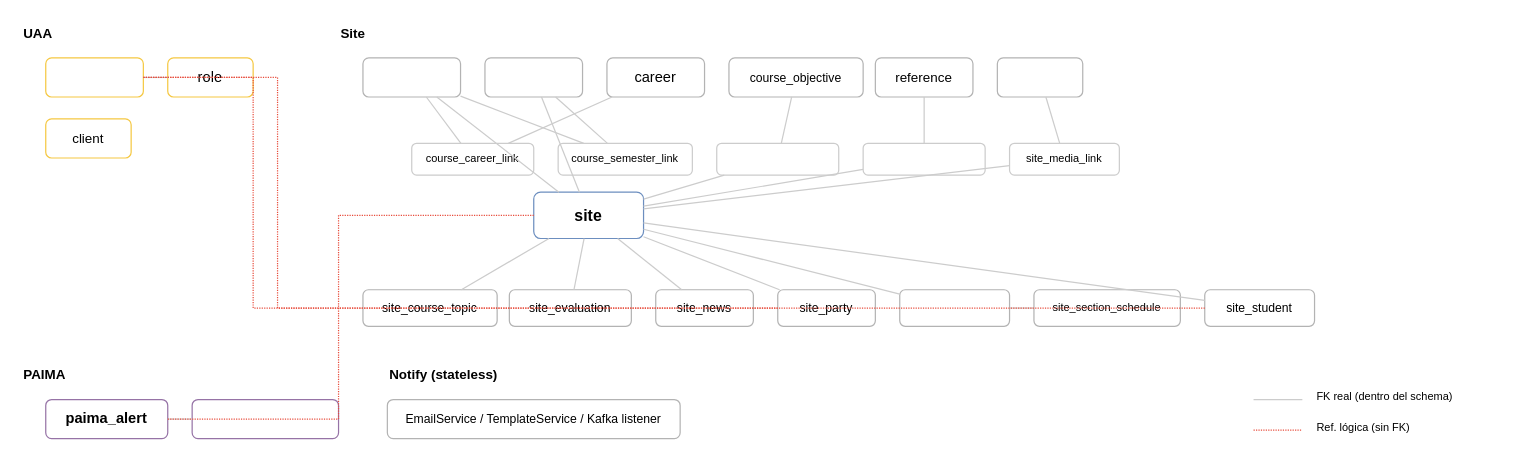
Image size: 1530x460. Some labels were removed from this diagram. The shapes that lost their labels are listed below. From the top down, each one's box as (x1, y1, x2, y2) in pixels, then its label:
(45, 57, 143, 97): user
(362, 57, 461, 97): course
(484, 57, 583, 97): semester
(996, 57, 1083, 97): media
(716, 142, 839, 175): site_objective_link
(862, 142, 985, 175): site_reference_link
(899, 289, 1010, 326): site_section
(191, 398, 339, 439): paima_alert_feedback
